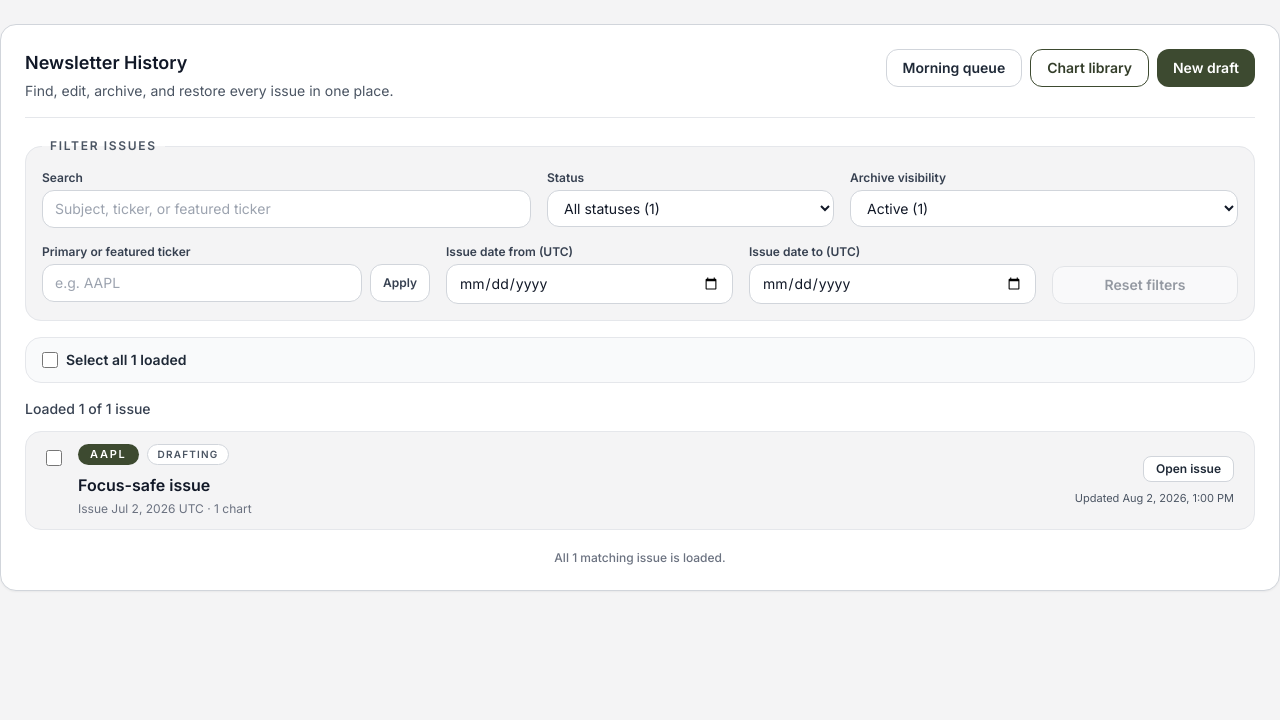
it: NewsletterDraftsHome › contains bulk confirmation focus and restores the invoking control
Click the checkbox named "Select Focus-safe issue": (54, 458) [46,450,62,466]
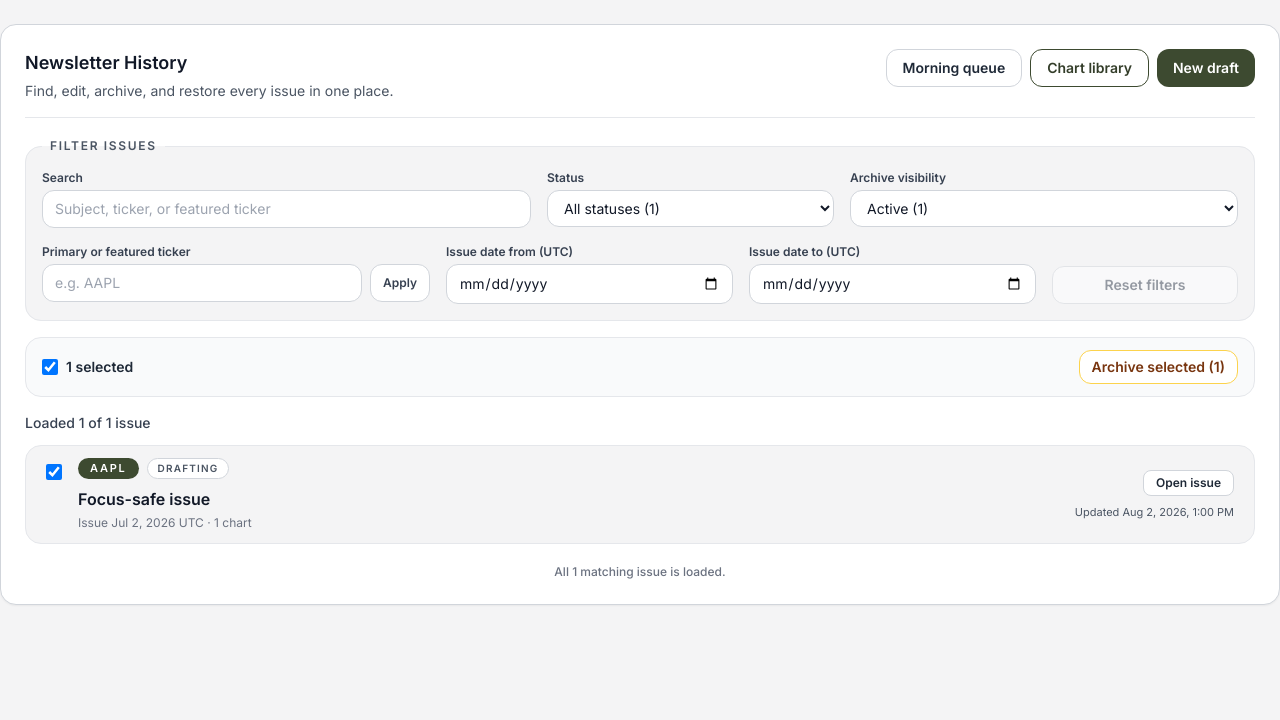
Click the button "Archive selected (1)": (1158, 367) [1079,350,1238,384]
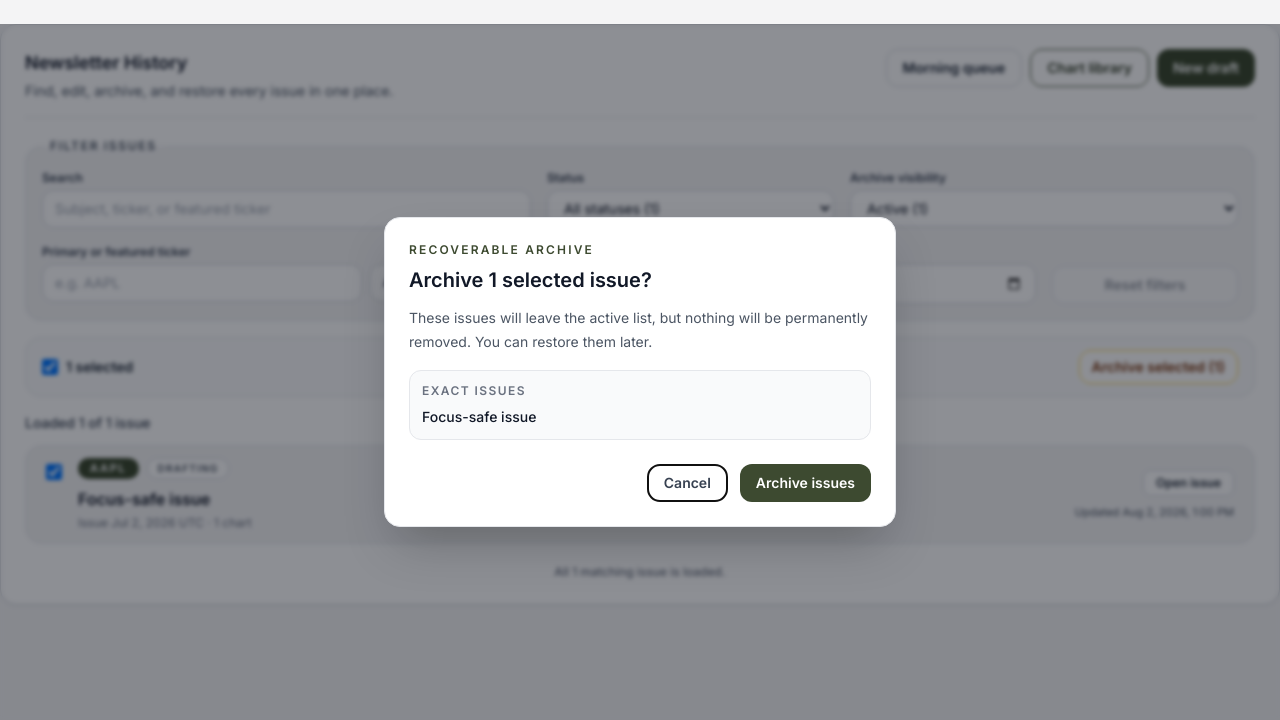
Press Tab
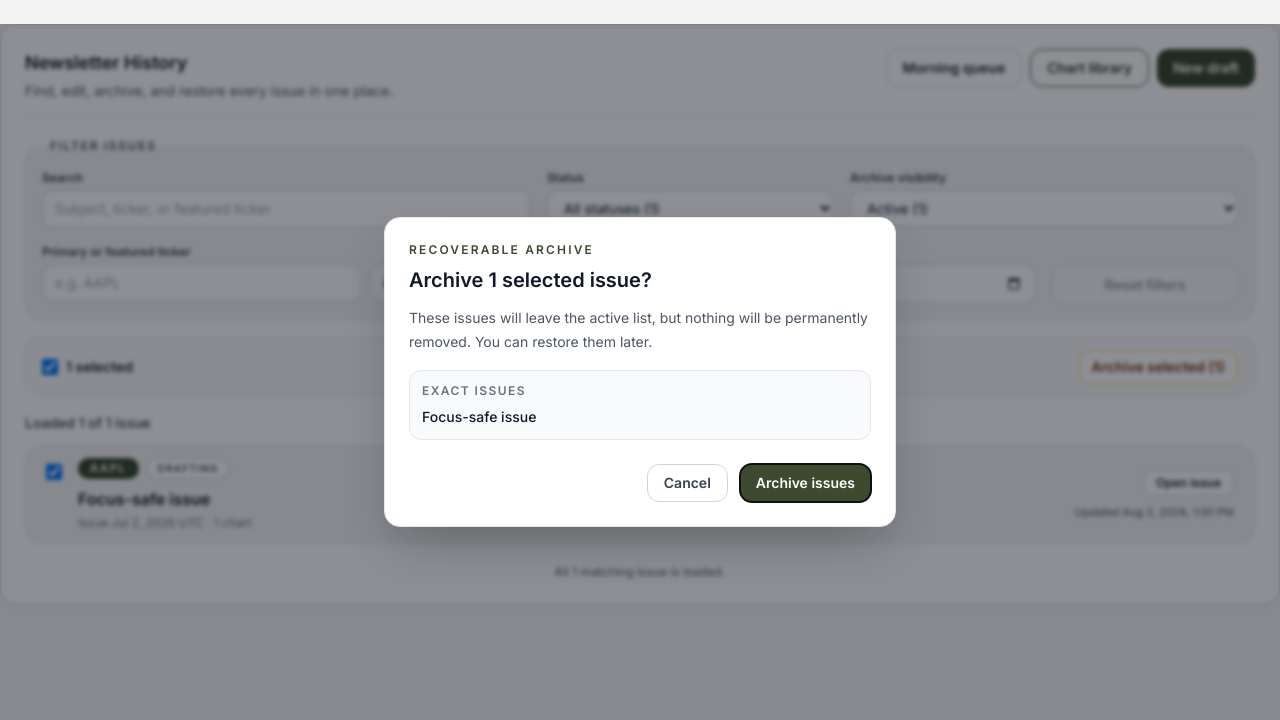
Press Tab
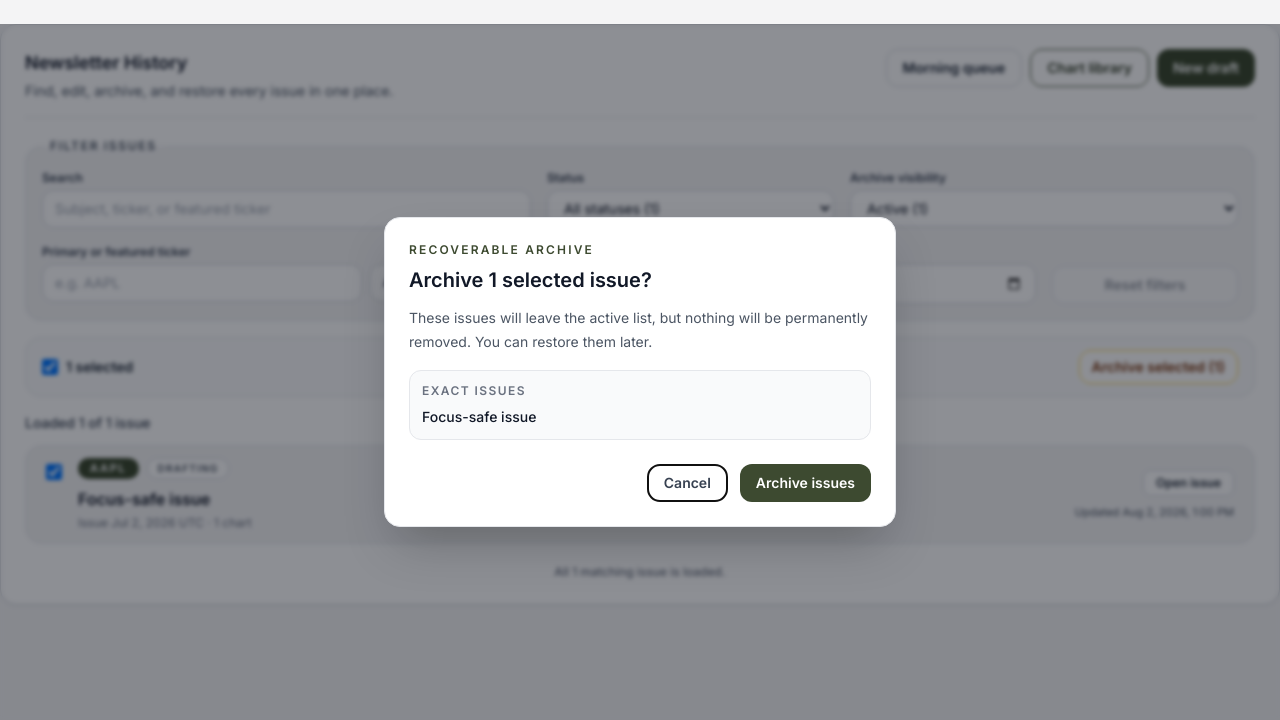
Press Escape
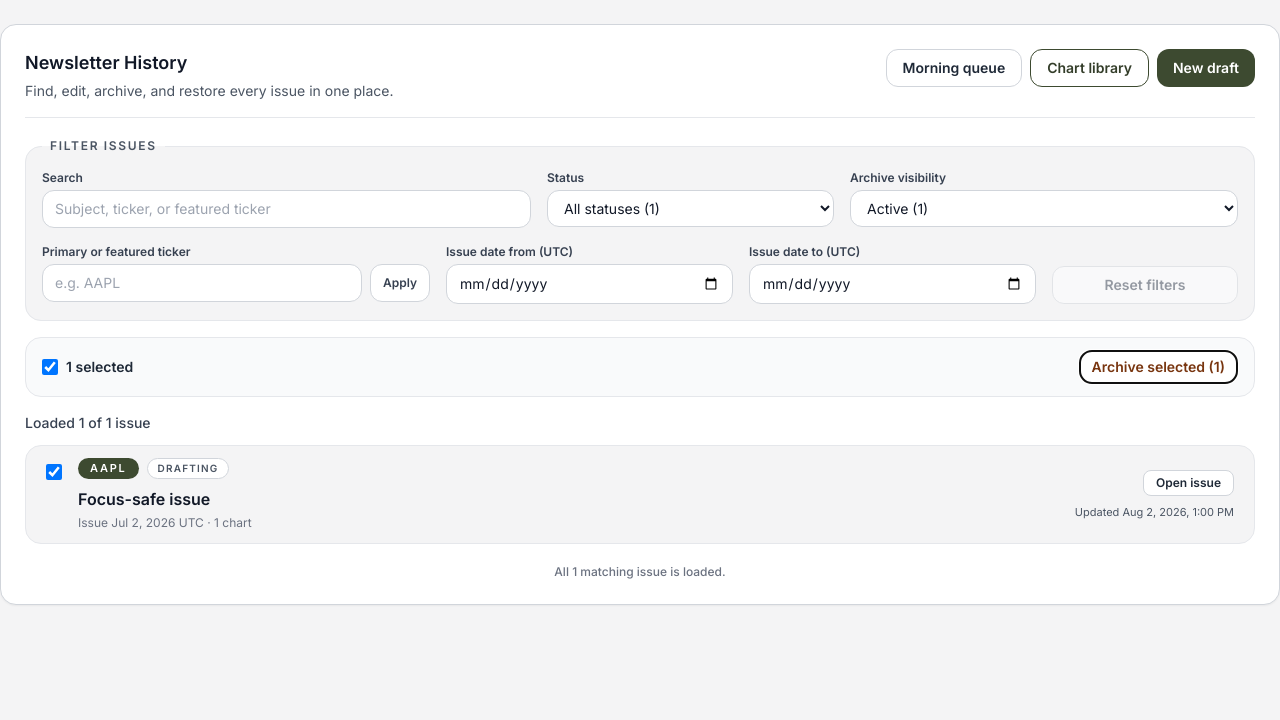
Expected: the heading "Archive 1 selected issue?" is gone
